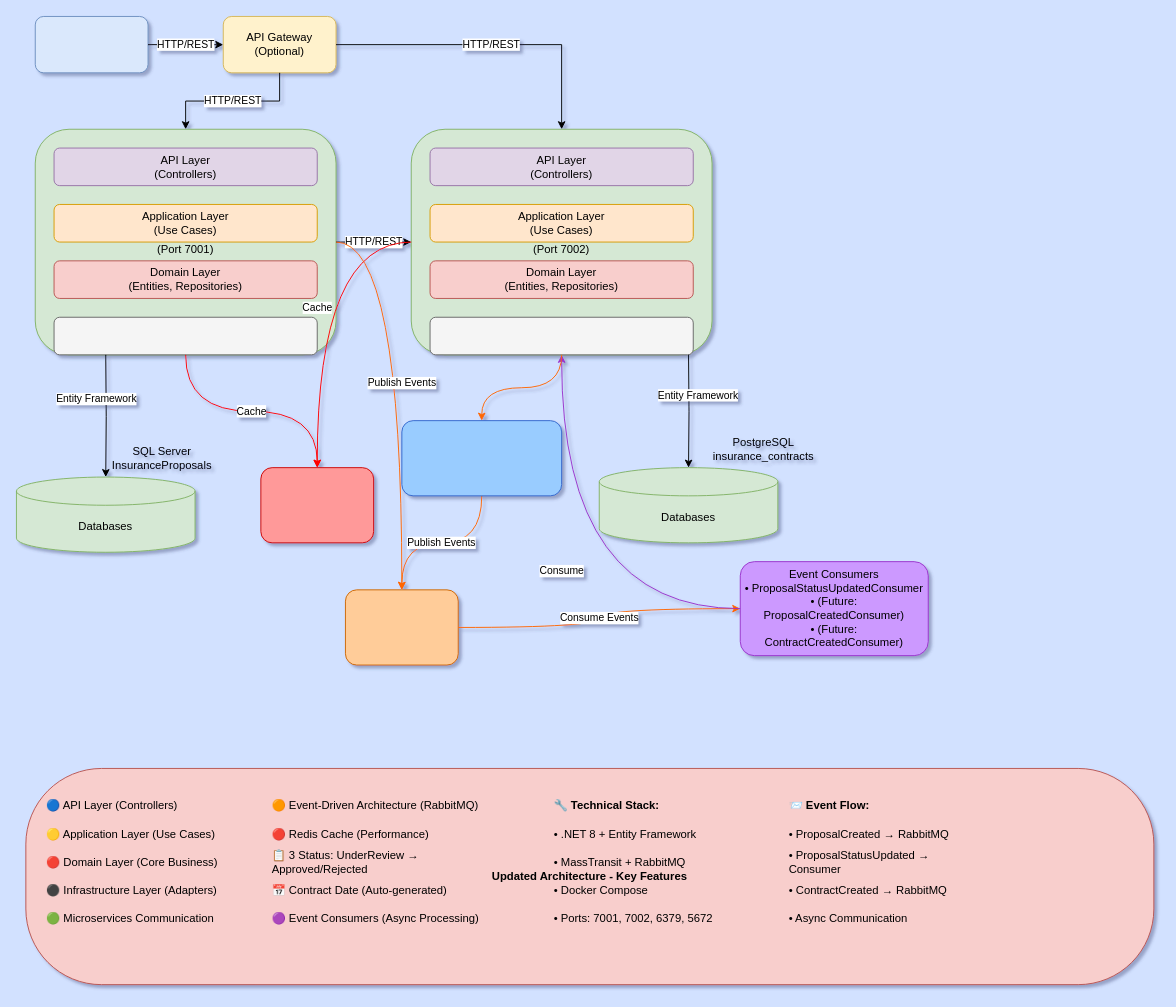
Image size: 1176x1007. Some labels were removed from this diagram. Each missing label, with the centre of its shape:
"Event Publishers • ProposalCreated • ProposalStatusUpdated • ContractCreated" belongs at point (481, 458).
"External Client" belongs at point (91, 44).
"Infrastructure Layer (EF, Event Consumer, HTTP Client)" belongs at point (561, 335).
"Infrastructure Layer (EF, HTTP Client, Event Publisher)" belongs at point (185, 335).
"RabbitMQ (Port 5672) Message Broker" belongs at point (401, 627).
"Redis Cache (Port 6379)" belongs at point (317, 505).
